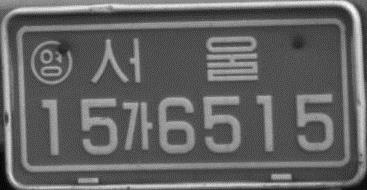1: (251, 92, 278, 154), (38, 97, 64, 158)
5: (199, 95, 244, 153), (293, 92, 336, 152), (77, 96, 119, 156)
6: (155, 95, 198, 155)
가: (120, 99, 152, 153)
서울_D: (89, 34, 261, 86)
영: (31, 40, 75, 86)
